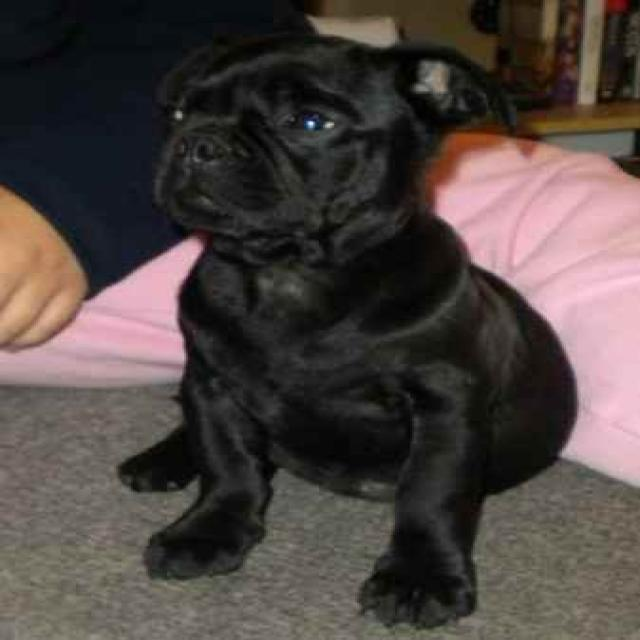dog: (124, 18, 546, 266)
